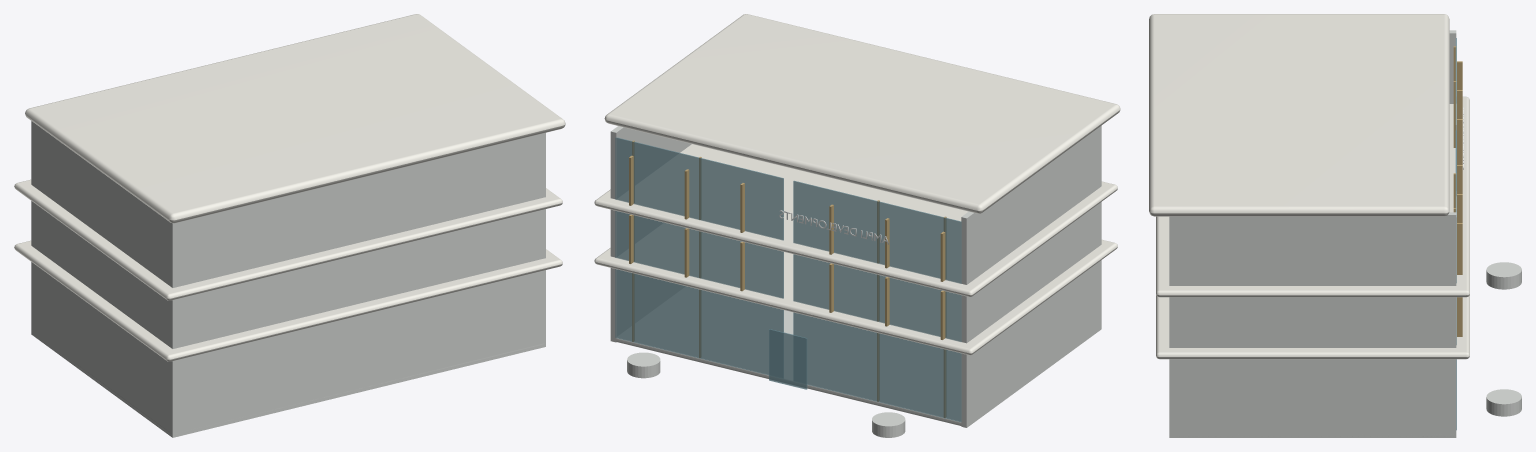
File: developer.glb
3 views of the same model, side by side, from view 1: azimuth 30°, elevation 25°; view 2: azimuth 150°, elevation 25°; view 3: azimuth 270°, elevation 25° (orthographic). The views are drawn at different scales.
Visible parts, largest first — view 1: Solid rear structure, Faceted roof crest, Full-depth side wall, Continuous cantilever terrace.001, Continuous cantilever terrace, Full-depth side wall.001, Ground slab; view 2: Faceted roof crest, Floor-to-ceiling showroom glass.001, Floor-to-ceiling showroom glass, Continuous cantilever terrace.001, Full-depth side wall, Ground slab, Continuous cantilever terrace, Full-depth side wall.001, Entrance framed glazing, Entry tree planter.001, Entry tree planter, Developer sign (+1 smaller); view 3: Faceted roof crest, Full-depth side wall.001, Continuous cantilever terrace.001, Continuous cantilever terrace, Solid rear structure, Entry tree planter, Entry tree planter.001, Full-depth side wall.
Boxes of the visible parts, x1,y1,x2,y2 form: Solid rear structure: [169, 133, 545, 437]; Faceted roof crest: [25, 14, 565, 223]; Full-depth side wall: [31, 121, 178, 437]; Continuous cantilever terrace.001: [14, 179, 562, 300]; Continuous cantilever terrace: [14, 240, 562, 361]; Full-depth side wall.001: [540, 133, 545, 347]; Ground slab: [57, 343, 544, 435]; Faceted roof crest: [604, 14, 1120, 213]; Floor-to-ceiling showroom glass.001: [615, 137, 783, 378]; Floor-to-ceiling showroom glass: [793, 180, 961, 422]; Continuous cantilever terrace.001: [594, 144, 1117, 296]; Full-depth side wall: [961, 125, 1101, 427]; Ground slab: [616, 287, 964, 425]; Continuous cantilever terrace: [594, 223, 1117, 355]; Full-depth side wall.001: [610, 126, 691, 342]; Entrance framed glazing: [769, 329, 807, 389]; Entry tree planter.001: [627, 352, 660, 378]; Entry tree planter: [872, 412, 905, 437]; Developer sign: [779, 210, 888, 244]; Faceted roof crest: [1149, 14, 1449, 216]; Full-depth side wall.001: [1169, 212, 1456, 437]; Continuous cantilever terrace.001: [1156, 96, 1469, 297]; Continuous cantilever terrace: [1156, 294, 1469, 359]; Solid rear structure: [1169, 216, 1176, 437]; Entry tree planter: [1486, 262, 1521, 289]; Entry tree planter.001: [1486, 389, 1521, 416]; Full-depth side wall: [1449, 30, 1456, 103].
Size of the model in its own units: 34 by 19 by 27.3.
